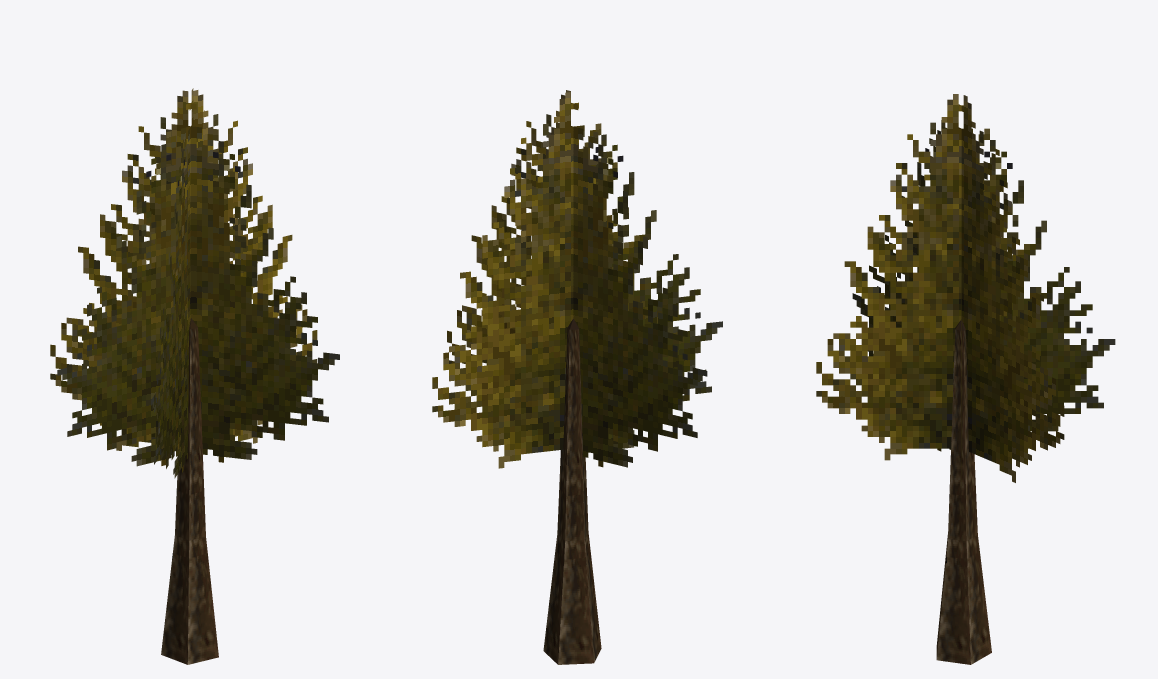
Rendered from tree_02.glb.
The picture shows the model from 3 angles, left to right: view 1: azimuth 30°, elevation 25°; view 2: azimuth 150°, elevation 25°; view 3: azimuth 270°, elevation 25°; orthographic projection.
Visible parts, largest first — view 1: tree_02; view 2: tree_02; view 3: tree_02.
Part boxes in pixels (x1,y1,x2,y2): tree_02: (50,88,339,664); tree_02: (432,90,722,664); tree_02: (816,94,1115,664).
Size of the model in its own units: 1.22 by 2.08 by 1.22.
Materials: 2 (2 with a texture image).
